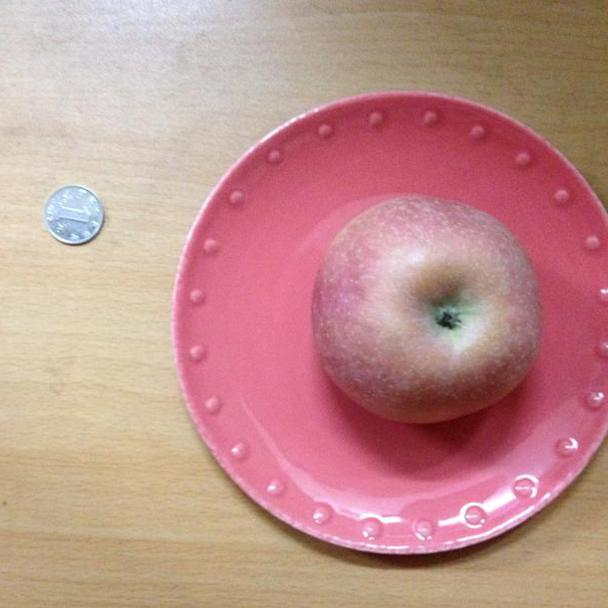apple: (308, 195, 543, 424)
